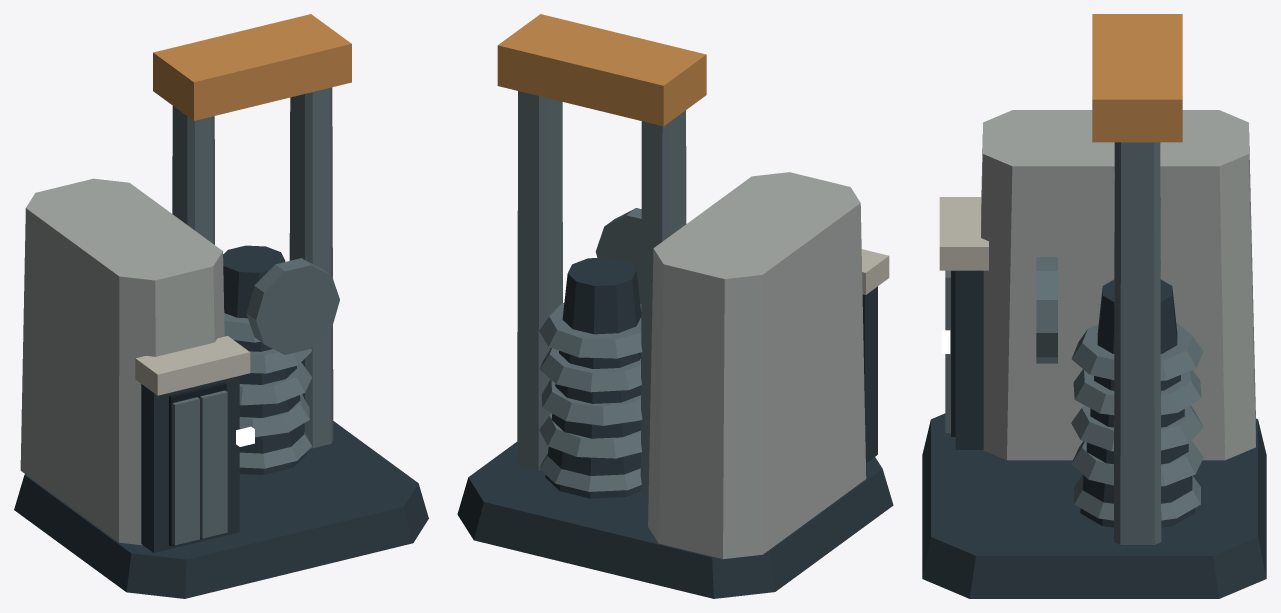
File: mine_t2.glb
3 renders of one model, left to right at view 1: azimuth 30°, elevation 25°; view 2: azimuth 150°, elevation 25°; view 3: azimuth 270°, elevation 25°, orthographic. The views are drawn at different scales.
Visible parts, largest first — view 1: body, part_rotor; view 2: body, part_rotor; view 3: body, part_rotor.
Boxes of the visible parts, x1,y1,x2,y2 form: body: (14,14,428,598); part_rotor: (246,258,339,354); body: (457,14,893,598); part_rotor: (595,208,641,303); body: (922,14,1266,598); part_rotor: (1036,257,1057,363).
Bounding box in the file's own units: 1.8 × 2.5 × 1.6.
